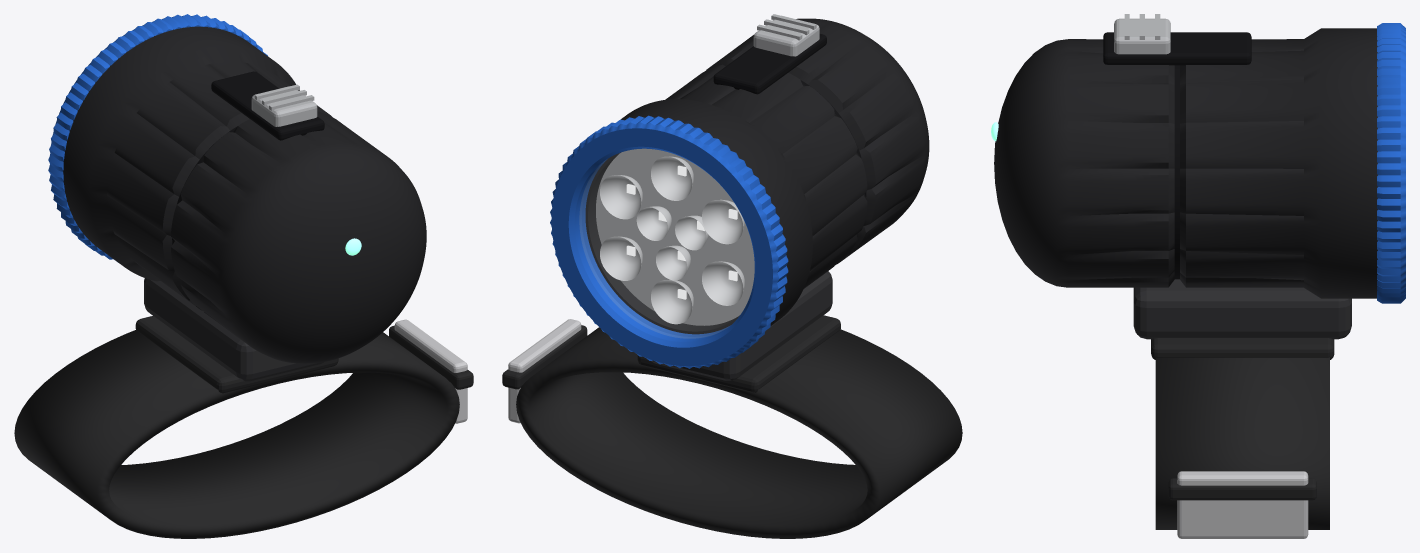
Rendered from dive-light.glb.
The picture shows the model from 3 angles, left to right: view 1: azimuth 30°, elevation 25°; view 2: azimuth 150°, elevation 25°; view 3: azimuth 270°, elevation 25°; orthographic projection. The views are drawn at different scales.
Parts seen in each view (by area): view 1: dive-light; view 2: dive-light; view 3: dive-light.
Boxes of the visible parts, x1,y1,x2,y2 form: dive-light: (14, 14, 473, 538); dive-light: (502, 14, 962, 538); dive-light: (991, 14, 1405, 538).
Size of the model in its own units: 0.108 by 0.117 by 0.0951.
